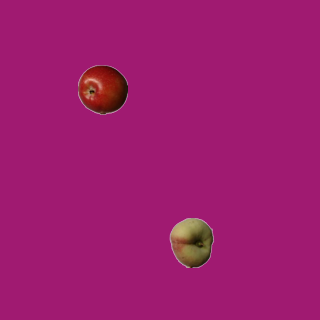Apple Braeburn: (77, 64, 127, 114)
Peach Flat: (166, 217, 216, 267)
